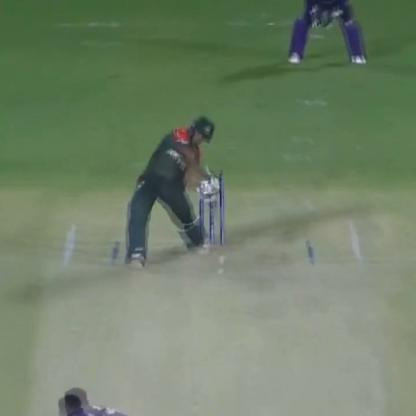ball: (216, 252, 229, 264), (214, 265, 228, 274)
bat: (194, 168, 239, 231)
pitch: (14, 215, 410, 415)
